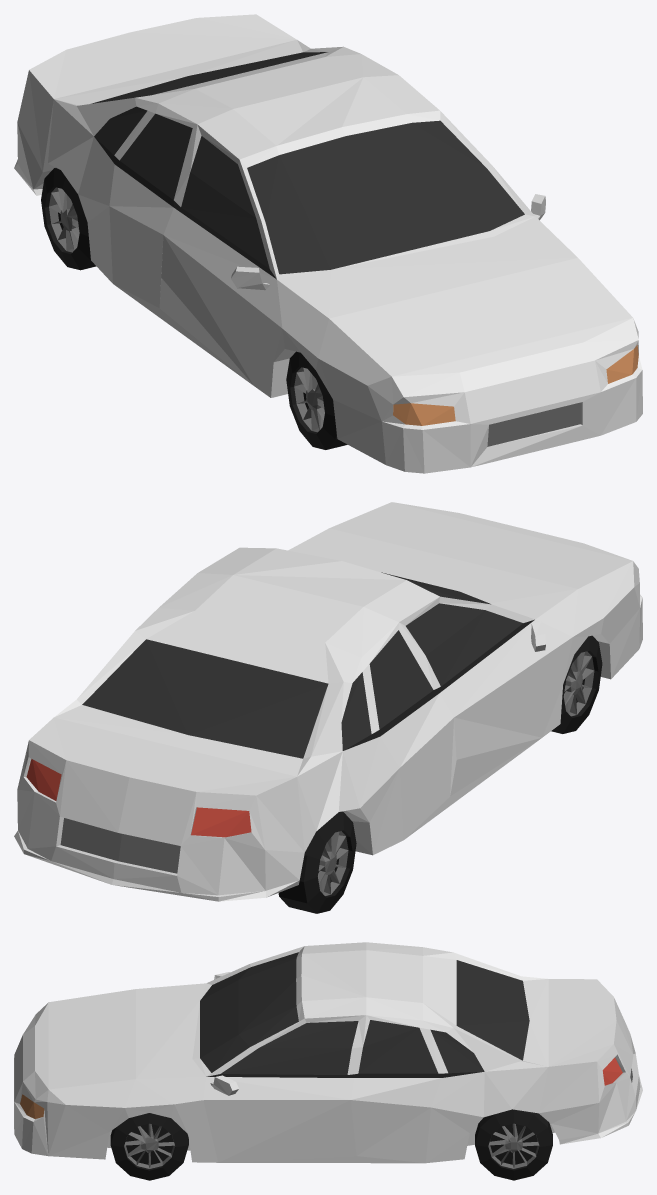
File: car-a-neutral.glb
The picture shows the model from 3 angles, top to bottom: view 1: azimuth 30°, elevation 25°; view 2: azimuth 150°, elevation 25°; view 3: azimuth 270°, elevation 25°; orthographic projection. The views are drawn at different scales.
Visible parts, largest first — view 1: NormalCar1_Cube.012; view 2: NormalCar1_Cube.012; view 3: NormalCar1_Cube.012.
Part boxes in pixels (bbox=[...]): NormalCar1_Cube.012: bbox=[14, 14, 642, 473]; NormalCar1_Cube.012: bbox=[14, 502, 642, 913]; NormalCar1_Cube.012: bbox=[14, 942, 642, 1180].
Size of the model in its own units: 1.81 by 1.18 by 4.21.
1 material, 1 textured.
